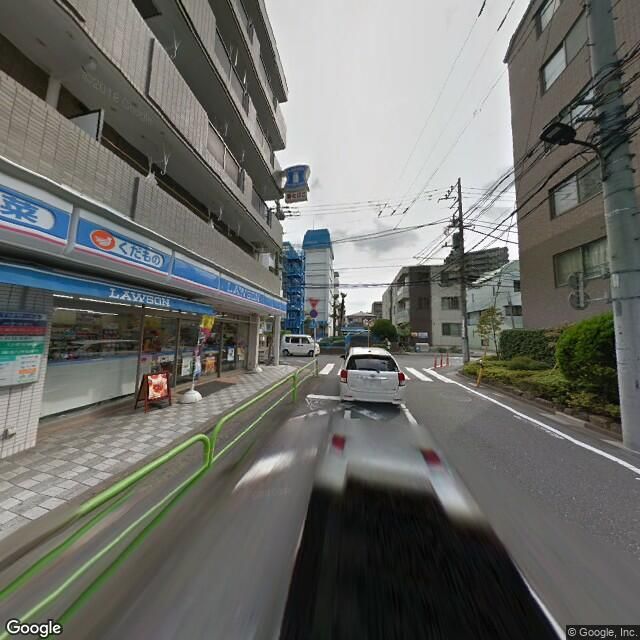lawson: (1, 171, 288, 313), (102, 286, 177, 315), (283, 157, 313, 190)
